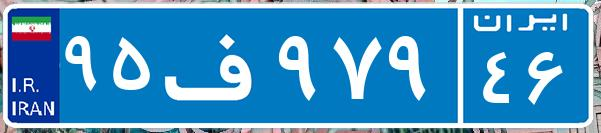4: (475, 38, 525, 113)
5: (110, 28, 158, 105)
6: (525, 38, 570, 115)
7: (330, 28, 385, 110)
9: (385, 28, 445, 110), (273, 28, 330, 110), (57, 26, 110, 107)
ف: (158, 15, 273, 115)
